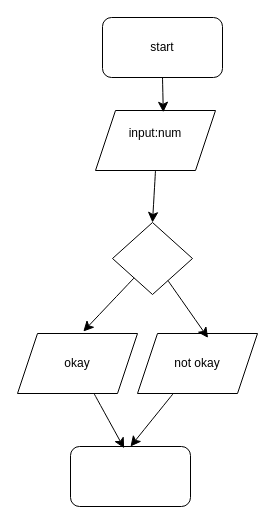
Some shapes in this 275 by 524 pixel diagram are drawn without their labels. The box of each missing label's shape, as (x1, y1, x2, y2) in pixels:
end: (70, 446, 190, 506)
num3%==0: (112, 222, 192, 294)
